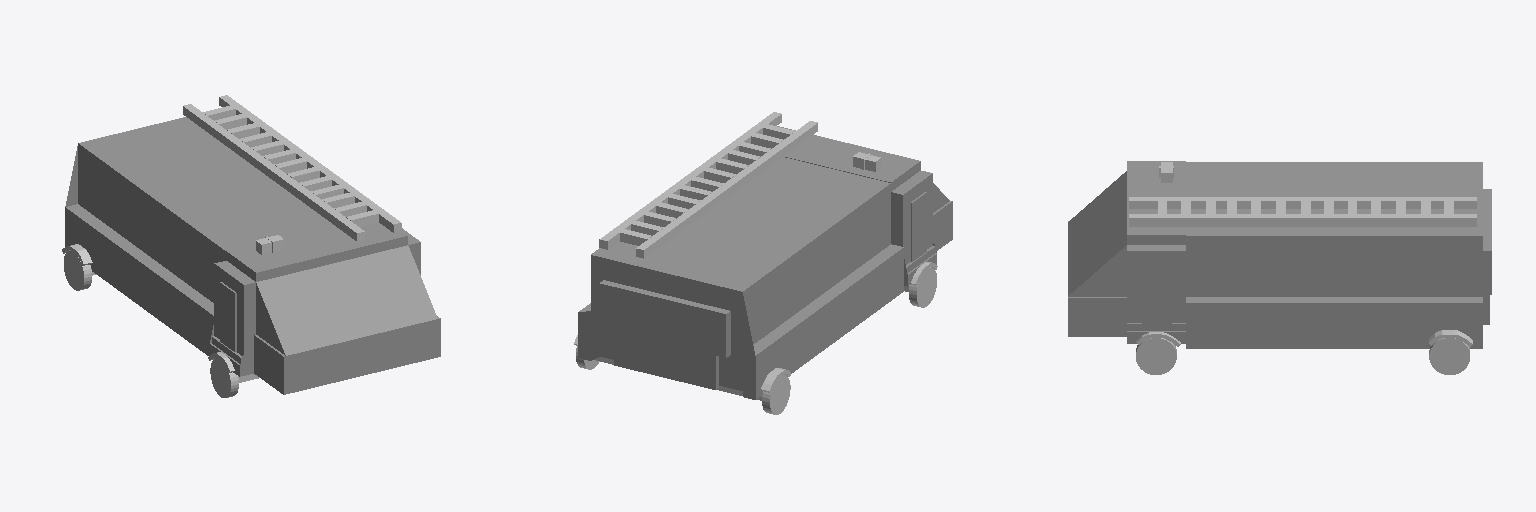
File: Truck.obj
The picture shows the model from 3 angles: view 1: azimuth 30°, elevation 25°; view 2: azimuth 150°, elevation 25°; view 3: azimuth 270°, elevation 25°; orthographic projection.
Parts seen in each view (by area): view 1: Cube, Cube.013, Circle.003, Circle.002; view 2: Cube, Cube.013, Circle.003, Circle.002; view 3: Cube, Cube.013, Circle.001, Circle.
Boxes of the visible parts, x1,y1,x2,y2 form: Cube: [65, 117, 440, 394]; Cube.013: [183, 95, 401, 241]; Circle.003: [64, 251, 91, 290]; Circle.002: [210, 358, 238, 397]; Cube: [578, 126, 952, 399]; Cube.013: [599, 112, 817, 258]; Circle.003: [762, 375, 790, 414]; Circle.002: [909, 267, 936, 307]; Cube: [1068, 161, 1491, 348]; Cube.013: [1129, 197, 1476, 226]; Circle.001: [1136, 338, 1176, 374]; Circle: [1429, 338, 1469, 374].
Bounding box in the file's own units: 7.61 × 5.36 × 14.31.